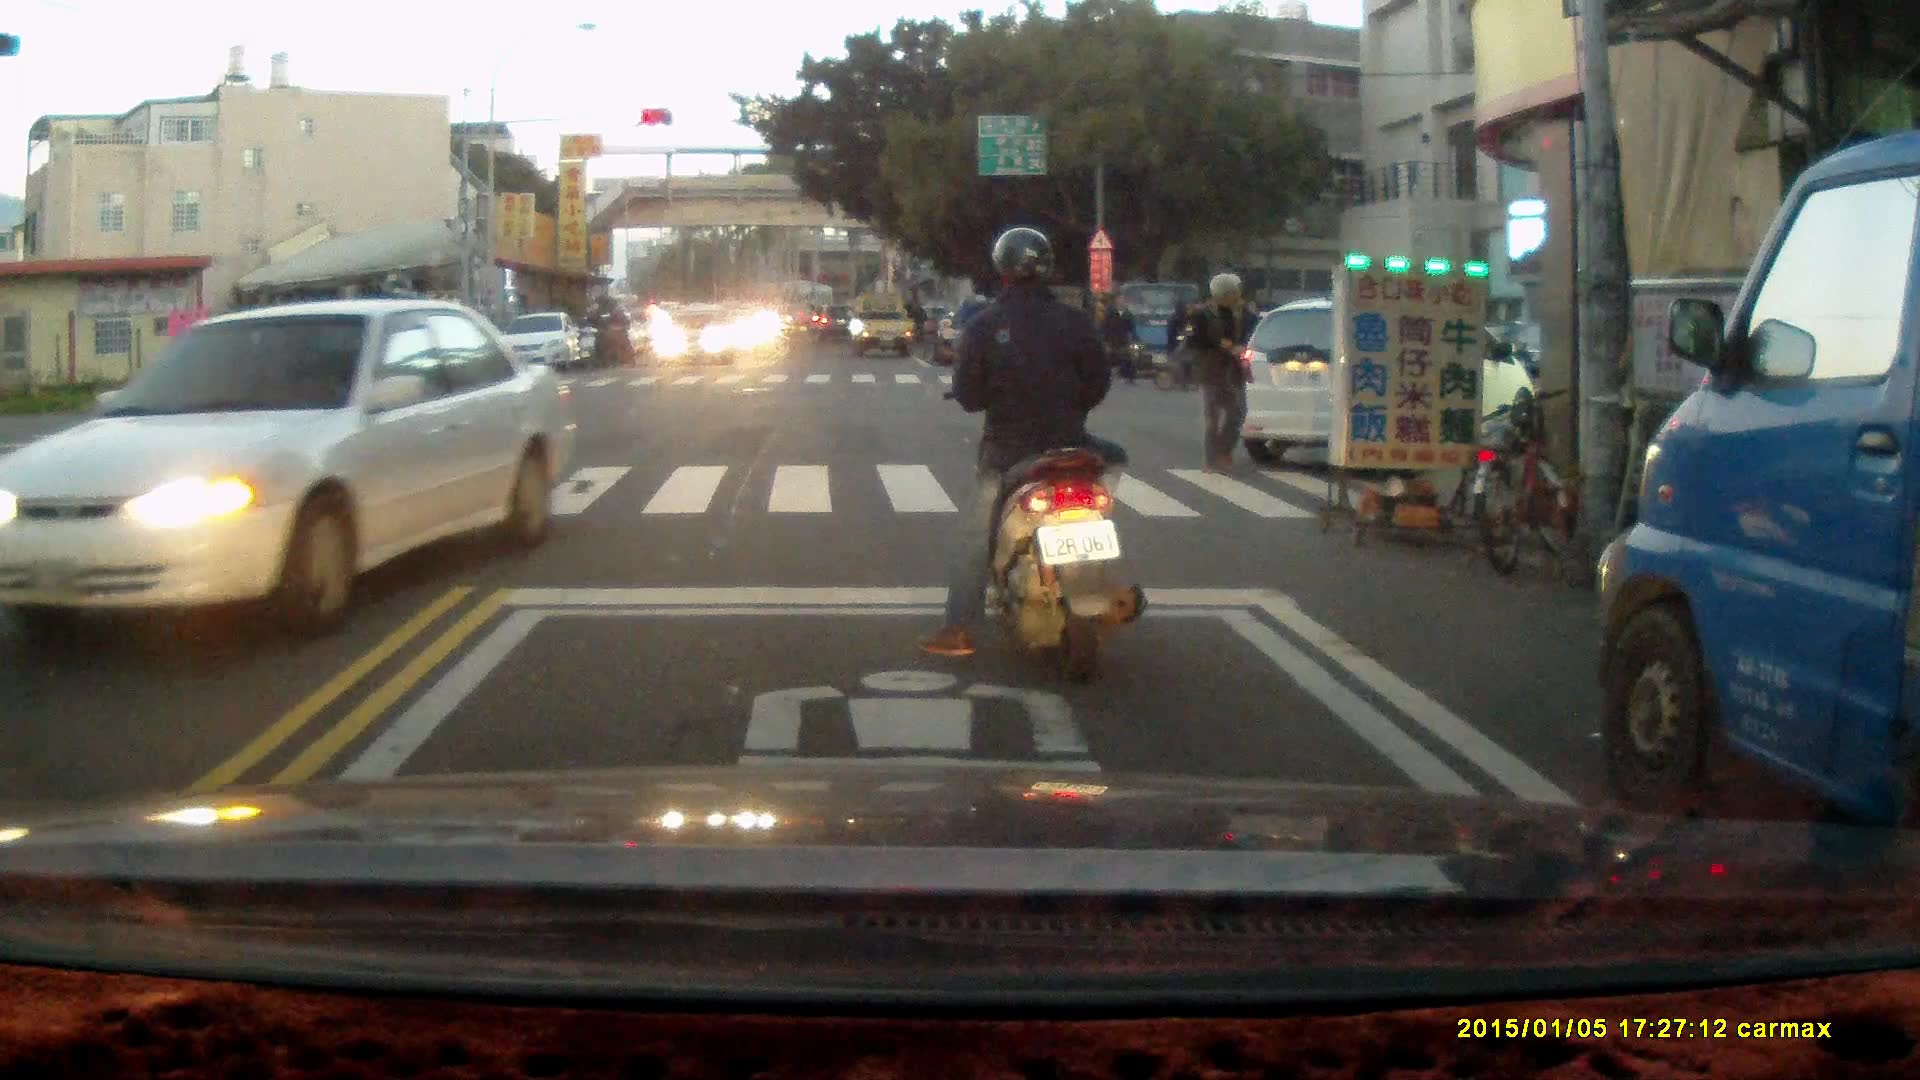pedestrian: (1184, 271, 1254, 474), (1102, 291, 1143, 390), (1164, 293, 1198, 391)
rider: (918, 227, 1149, 686), (1150, 295, 1227, 393), (594, 300, 632, 368), (577, 301, 612, 372)
vehicle: (1596, 120, 1920, 901), (1, 301, 565, 643), (1236, 303, 1533, 462), (657, 301, 740, 372), (851, 293, 918, 360)
